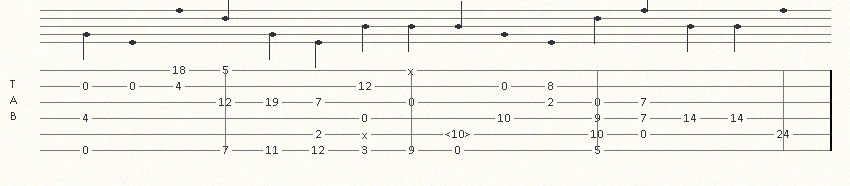0: (82, 144, 93, 156), (82, 80, 93, 92), (129, 80, 140, 92), (361, 112, 372, 124), (408, 96, 419, 108), (454, 144, 465, 156), (501, 80, 512, 92), (594, 96, 605, 108), (640, 128, 651, 140)
10: (497, 112, 515, 124), (590, 128, 608, 140)
11: (265, 144, 283, 156)
12: (218, 96, 236, 108), (311, 144, 329, 156), (358, 80, 376, 92)
14: (683, 112, 701, 124), (730, 112, 748, 124)
18: (172, 64, 190, 76)
19: (265, 96, 283, 108)
2: (315, 128, 326, 140), (547, 96, 558, 108)
24: (776, 128, 794, 140)
3: (361, 144, 372, 156)
4: (82, 112, 93, 124), (175, 80, 186, 92)
5: (222, 64, 233, 76), (594, 144, 605, 156)
7: (222, 144, 233, 156), (315, 96, 326, 108), (640, 96, 651, 108), (640, 112, 651, 124)
8: (547, 80, 558, 92)
9: (408, 144, 419, 156), (594, 112, 605, 124)
harmonic: (445, 128, 475, 140)
x: (362, 129, 372, 139), (408, 65, 418, 75)
